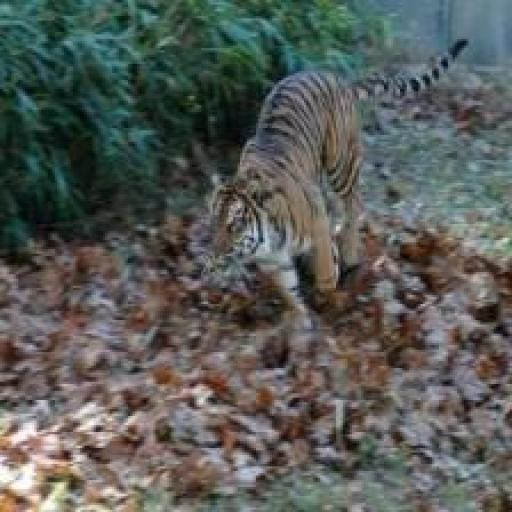Tiger: (204, 38, 468, 316)
